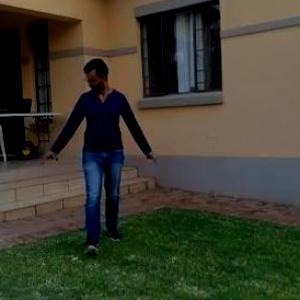land: (39, 50, 166, 258)
